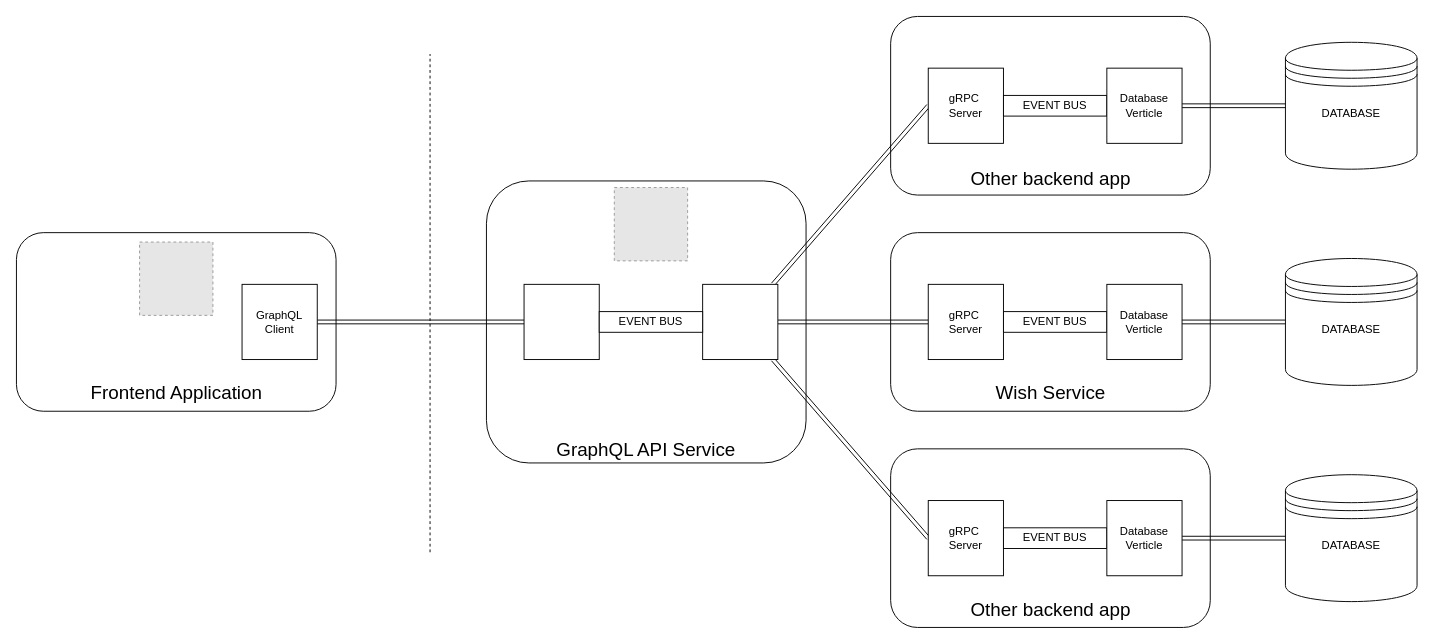
Some shapes in this 1434 by 644 pixel diagram are drawn without their labels. Grey dashed boxes stand in for pictures. Each missing label, with the centre of its shape:
"GraphQL Server" belongs at (x=561, y=321).
"gRPC Clients" belongs at (x=740, y=321).
